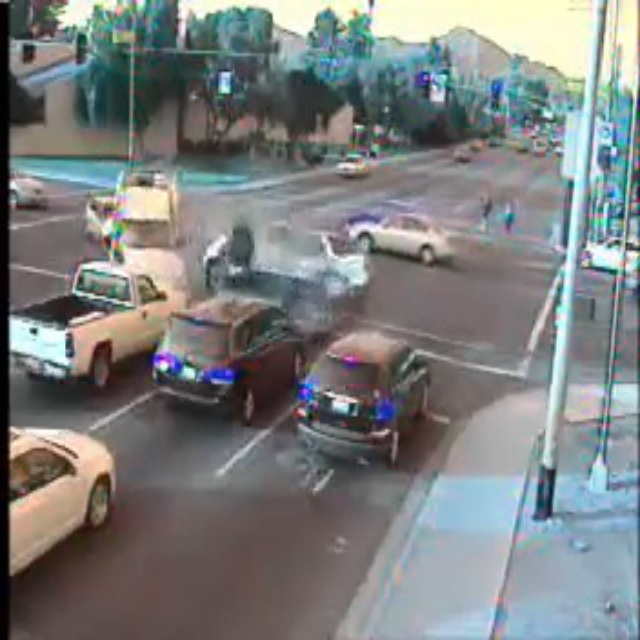acc: (81, 167, 366, 298)
